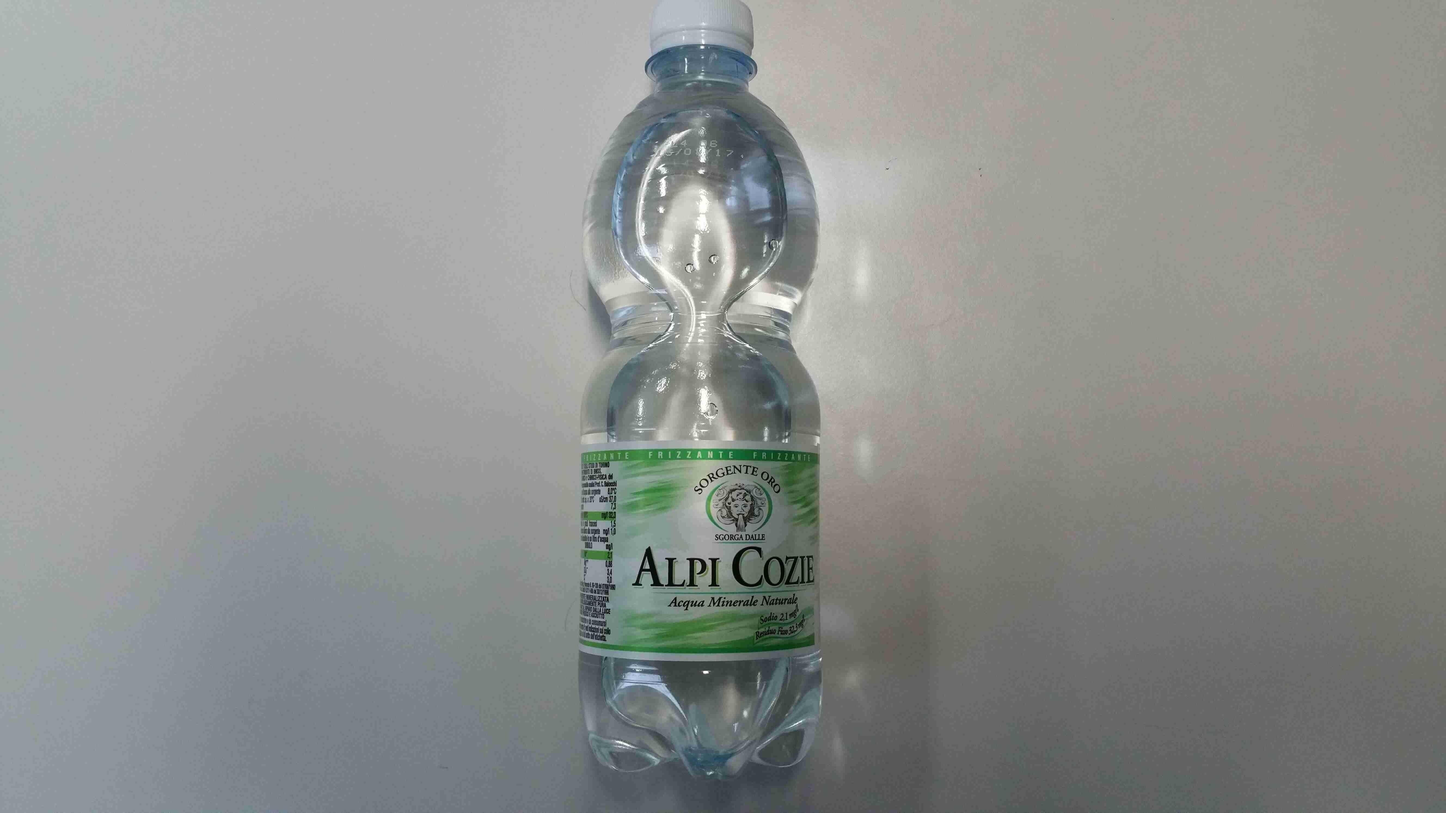bottle-plastic: (561, 0, 836, 795)
